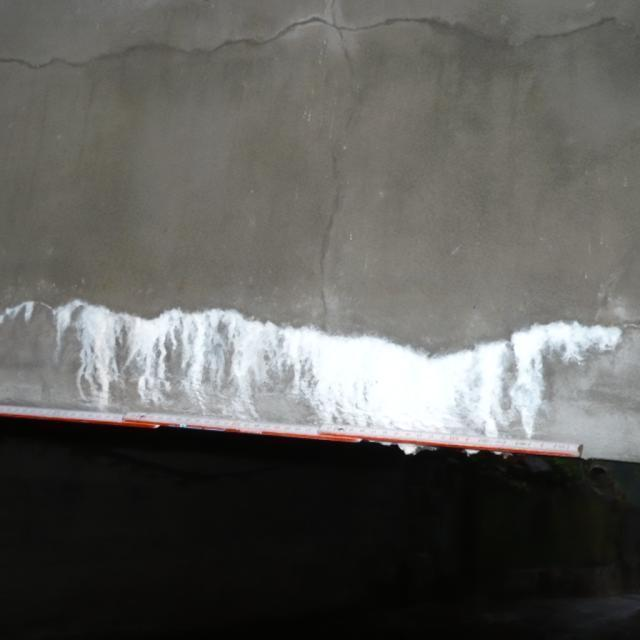D01: (51, 302, 621, 445), (510, 322, 620, 433), (2, 302, 33, 318), (14, 302, 33, 318)
